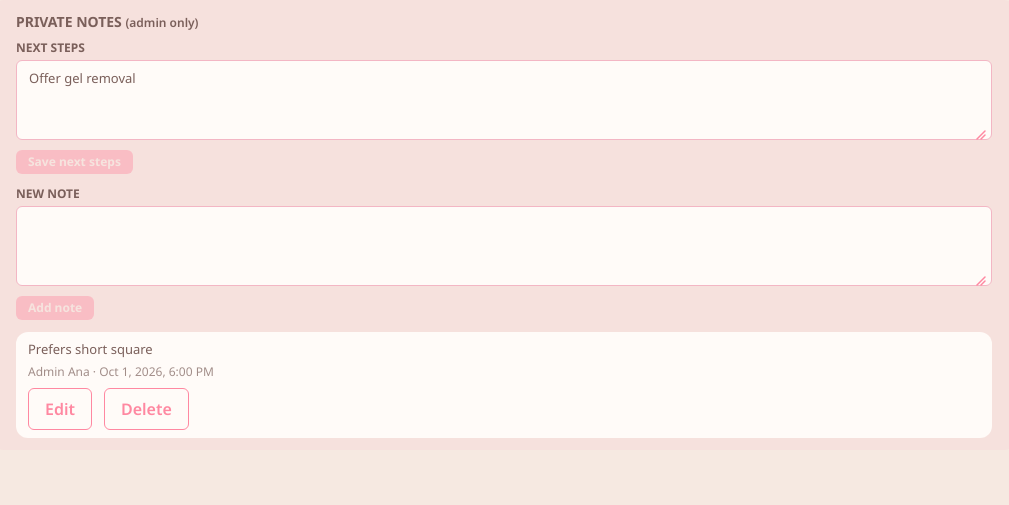
Test: ClientNotesPanel › edits a note
Expected: the text box labelled "Next steps" is shown, [16,60,992,140]
Click the button "Edit": [60, 408] box [28,388,92,430]
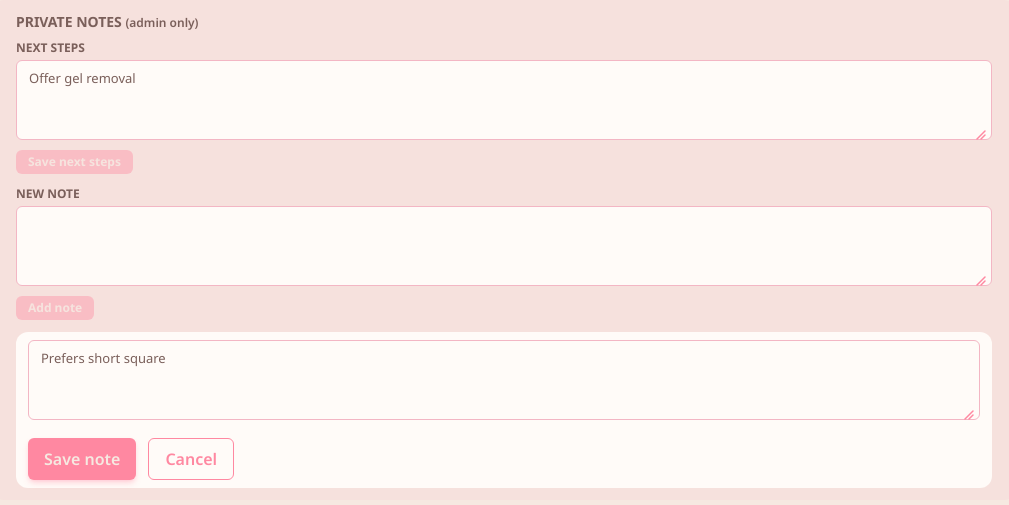
Replace the text in the text box named "Edit note" with "Prefers almond": [504, 380] box [28,340,980,420]
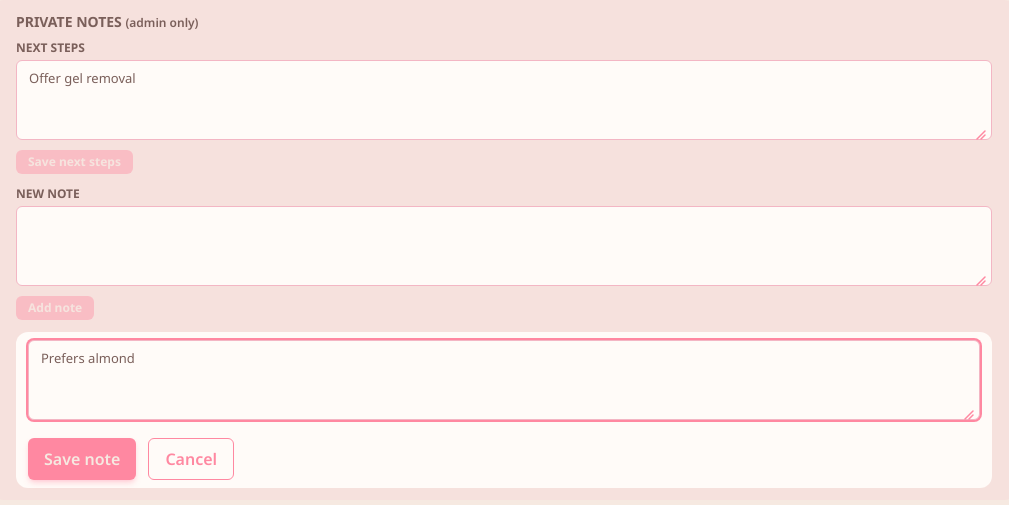
Click the button "Save note": [82, 459] box [28,438,136,480]
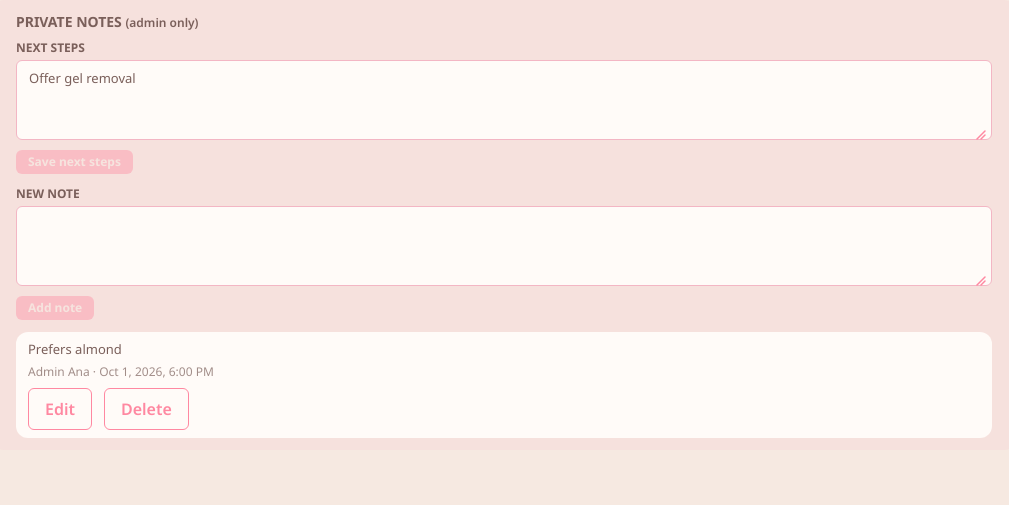
Now the text "Prefers almond" is shown, box [28,340,122,358]
